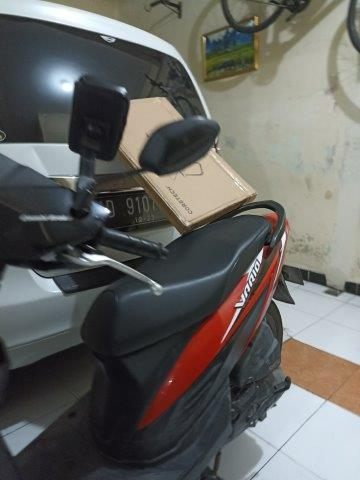kardus: (107, 97, 256, 232)
